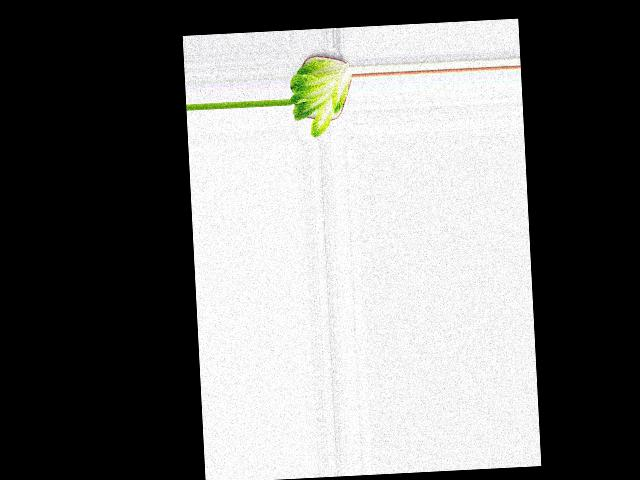lettuce: (286, 53, 352, 140)
